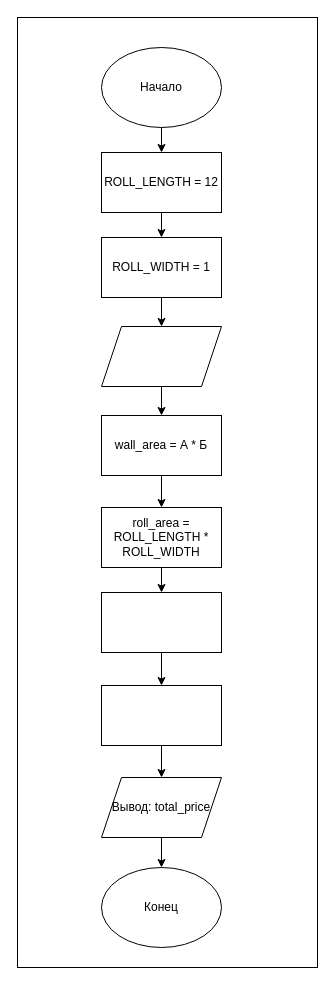
The diagram is 335 pixels wide and 985 high, and some of its shapes have lost their labels. Here are the shapes that lost their labels. From the top down, the centre of each, then its label:
At [161,356]: "Ввод: А, Б, К".
At [161,622]: "roll_quantity = ceil(wall_area / roll_area)".
At [161,715]: "total_price = К * roll_price".
